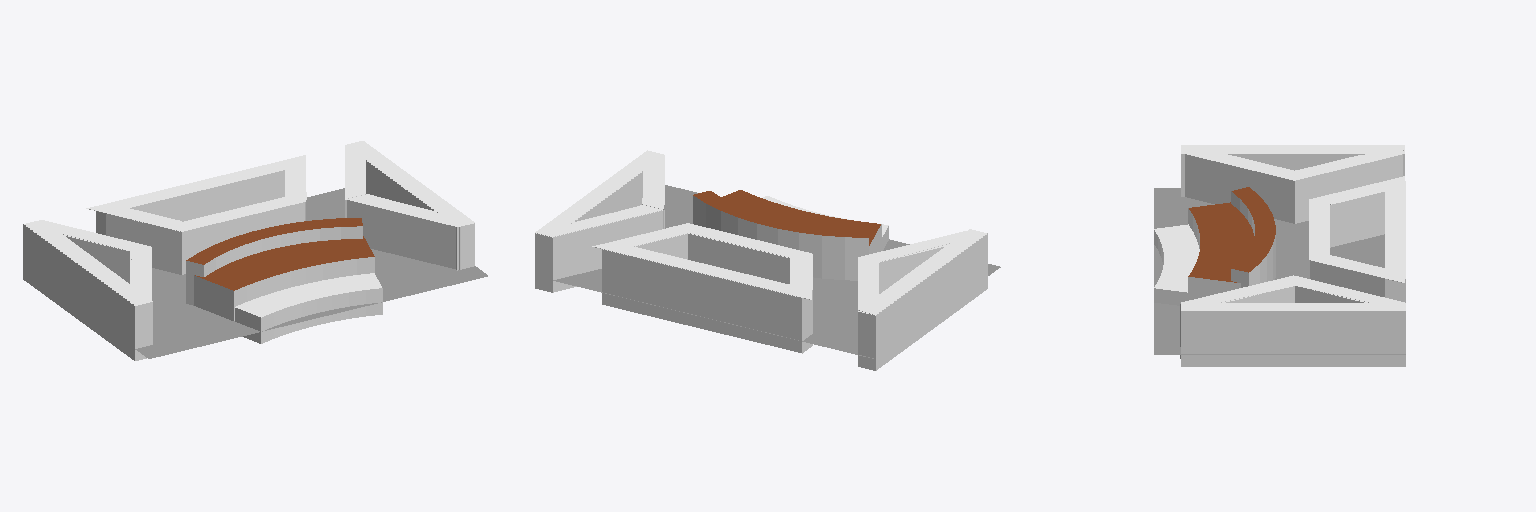
3 renders of one model, left to right at view 1: azimuth 30°, elevation 25°; view 2: azimuth 150°, elevation 25°; view 3: azimuth 270°, elevation 25°, orthographic.
Parts seen in each view (by area): view 1: ground_1, wall_3_16, wall_10_59, wall_4_22, wall_13_76, wall_12_70, wall_7_40, wall_5_29, wall_11_64, room_17_83, wall_12_72, wall_12_73 (+16 smaller); view 2: wall_4_23, wall_3_16, ground_1, wall_11_65, wall_9_53, wall_7_41, room_17_83, wall_12_72, room_21_87, room_18_84, wall_8_46, room_15_81 (+10 smaller); view 3: wall_8_47, ground_1, wall_2_10, wall_1_4, wall_5_28, wall_12_72, room_17_83, wall_13_78, room_21_87, room_18_84, wall_12_73, wall_6_34 (+14 smaller).
Part boxes in pixels (bbox=[...]): ground_1: bbox=[135, 188, 487, 358]; wall_3_16: bbox=[23, 224, 143, 360]; wall_10_59: bbox=[347, 200, 460, 269]; wall_4_22: bbox=[101, 170, 284, 234]; wall_13_76: bbox=[241, 288, 382, 343]; wall_12_70: bbox=[214, 257, 374, 320]; wall_7_40: bbox=[182, 202, 304, 274]; wall_5_29: bbox=[106, 214, 181, 274]; wall_11_64: bbox=[195, 226, 362, 276]; room_17_83: bbox=[97, 157, 305, 213]; wall_12_72: bbox=[215, 245, 374, 290]; wall_12_73: bbox=[195, 236, 367, 282]; wall_4_23: bbox=[602, 249, 807, 353]; wall_3_16: bbox=[867, 234, 987, 370]; ground_1: bbox=[553, 185, 1000, 358]; wall_11_65: bbox=[693, 196, 868, 280]; wall_9_53: bbox=[553, 210, 664, 292]; wall_7_41: bbox=[688, 234, 789, 283]; room_17_83: bbox=[603, 242, 812, 297]; wall_12_72: bbox=[721, 190, 880, 234]; room_21_87: bbox=[876, 229, 987, 314]; room_18_84: bbox=[535, 151, 646, 232]; wall_8_46: bbox=[544, 172, 642, 292]; room_15_81: bbox=[669, 223, 811, 257]; wall_8_47: bbox=[1181, 312, 1405, 366]; ground_1: bbox=[1154, 188, 1405, 354]; wall_2_10: bbox=[1185, 154, 1294, 223]; wall_1_4: bbox=[1295, 155, 1402, 223]; wall_5_28: bbox=[1330, 192, 1384, 247]; wall_12_72: bbox=[1188, 205, 1227, 279]; room_17_83: bbox=[1385, 181, 1404, 277]; wall_13_78: bbox=[1154, 226, 1191, 291]; room_21_87: bbox=[1181, 145, 1403, 154]; room_18_84: bbox=[1181, 303, 1405, 311]; wall_12_73: bbox=[1215, 202, 1253, 282]; wall_6_34: bbox=[1310, 261, 1384, 296].
Bounding box in the file's own units: 142 × 22.2 × 91.52.